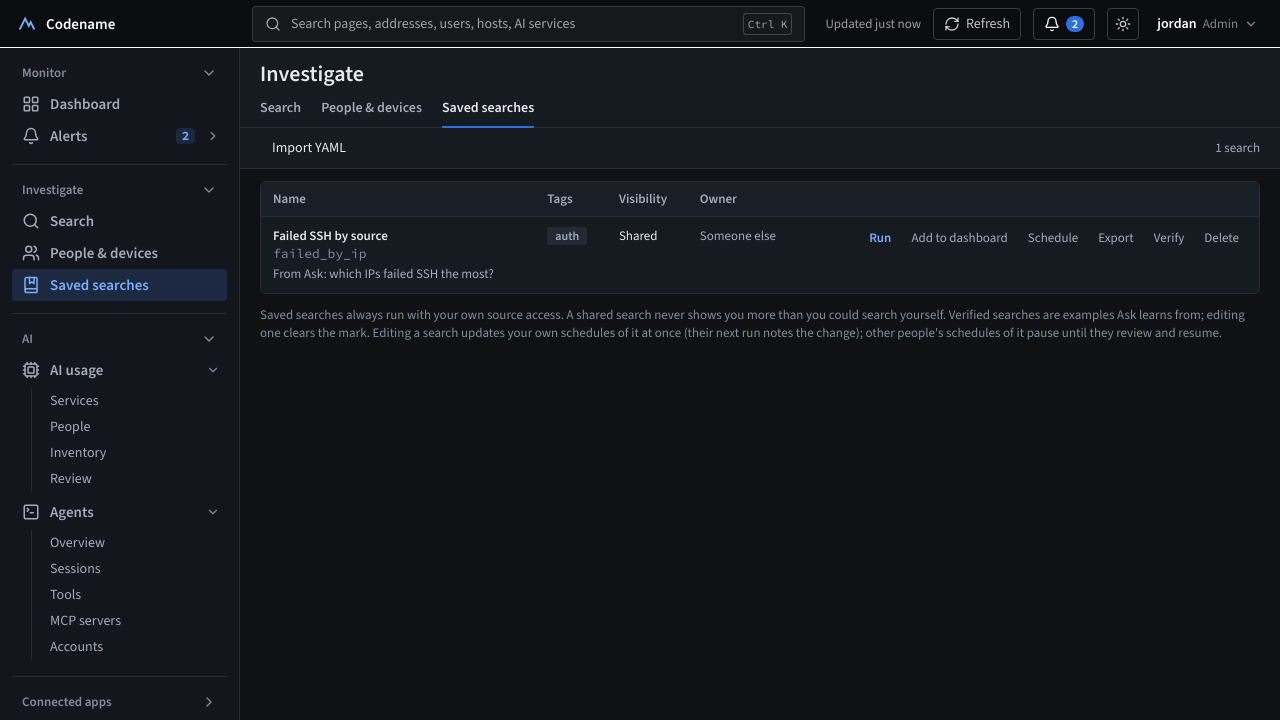
Test: Saved searches page › lets admins delete after confirming
The image size is (1280, 720).
What coordinates should you click on to do the following:
click the button with aria-label "Delete Failed SSH by source"
I would click on:
 (1222, 238)
Its box is left=1196, top=227, right=1247, bottom=249.
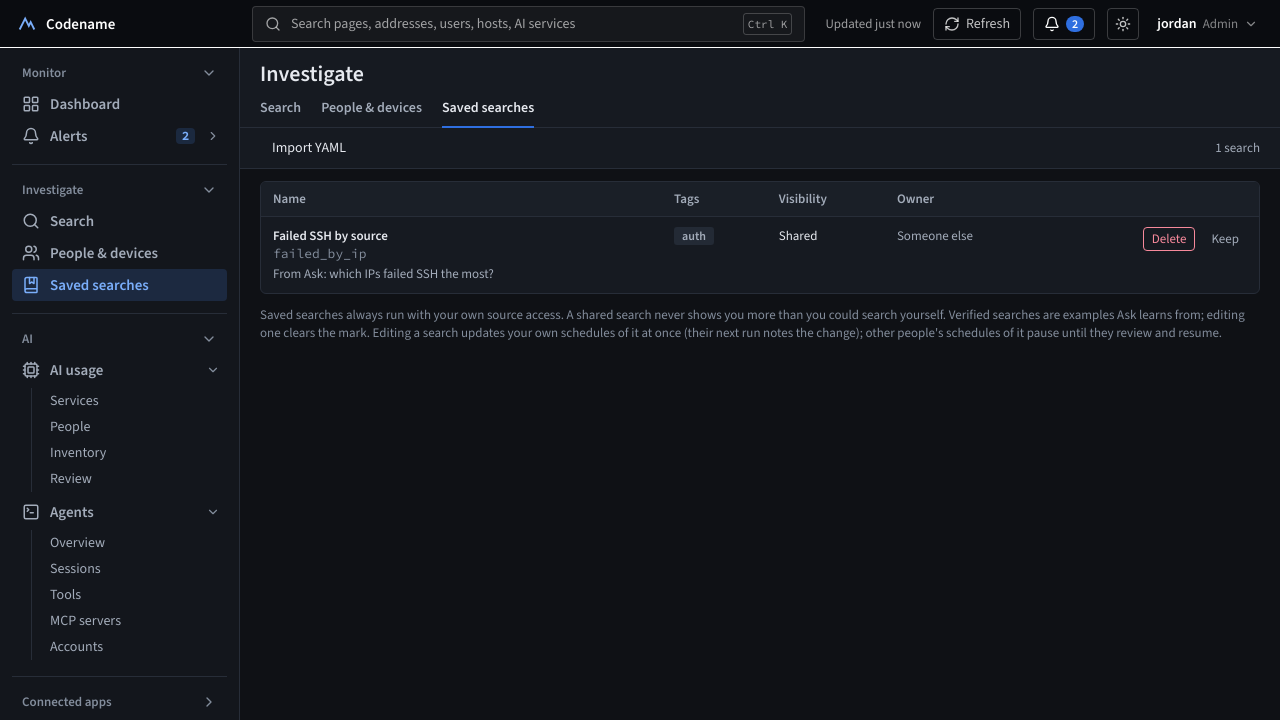
What coordinates should you click on to do the following:
click the button "Delete"
I would click on:
 (1169, 239)
Its box is left=1143, top=227, right=1196, bottom=251.
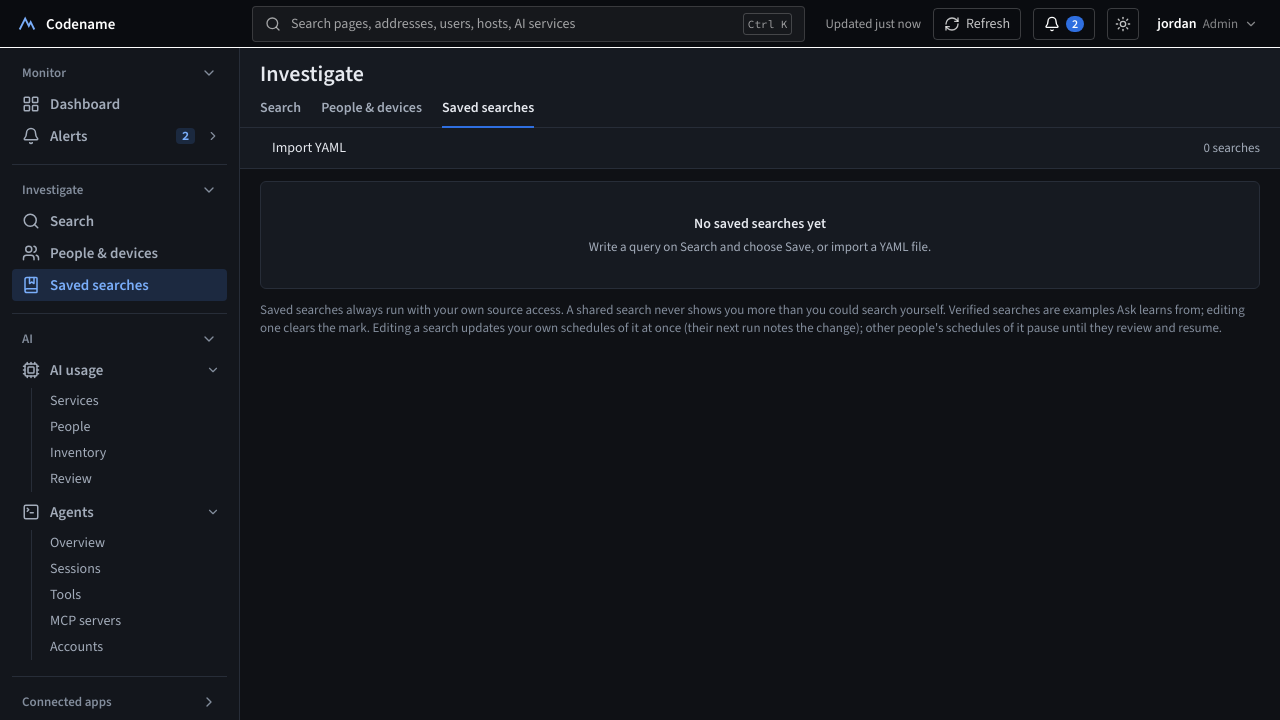
Expected: the text "Failed SSH by source" is gone
